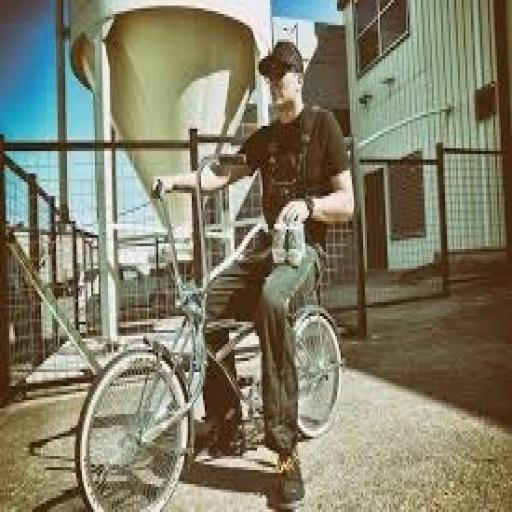cycling: (190, 36, 357, 476)
